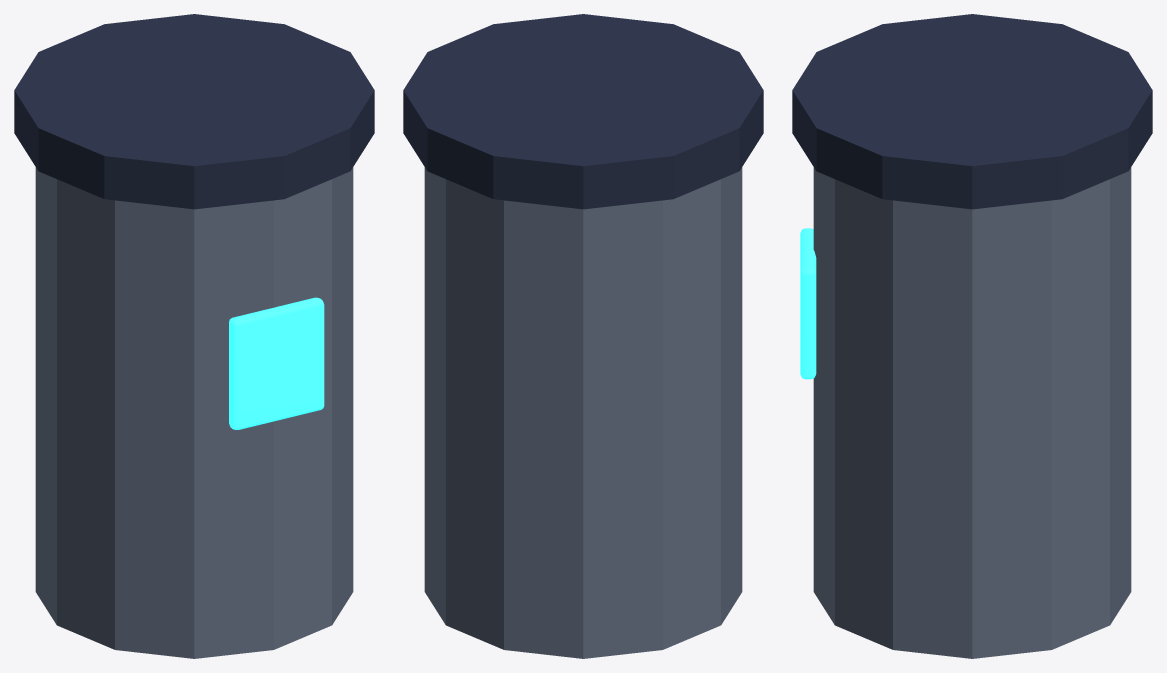
Rendered from trash_bin.glb.
3 renders of one model, left to right at view 1: azimuth 30°, elevation 25°; view 2: azimuth 150°, elevation 25°; view 3: azimuth 270°, elevation 25°, orthographic.
Visible parts, largest first — view 1: Bin, Bin lid, Bin sticker; view 2: Bin, Bin lid; view 3: Bin, Bin lid, Bin sticker.
Boxes of the visible parts, x1,y1,x2,y2 form: Bin: (35,167,353,658); Bin lid: (14,14,374,209); Bin sticker: (229,297,324,429); Bin: (424,167,742,658); Bin lid: (403,14,763,209); Bin: (813,167,1131,658); Bin lid: (792,14,1152,209); Bin sticker: (800,228,816,379).
Bounding box in the file's own units: 0.68 × 1.05 × 0.68.
